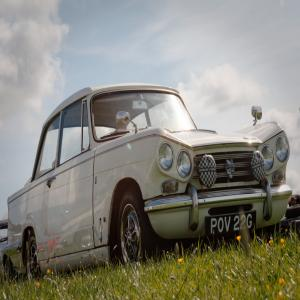Vehicle-registration-plate: (205, 209, 257, 241)
